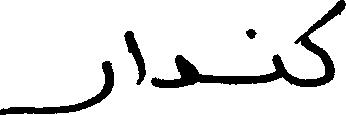X: (0, 56, 114, 114), (302, 0, 345, 91), (151, 50, 198, 92), (124, 26, 145, 89), (272, 49, 284, 85)
